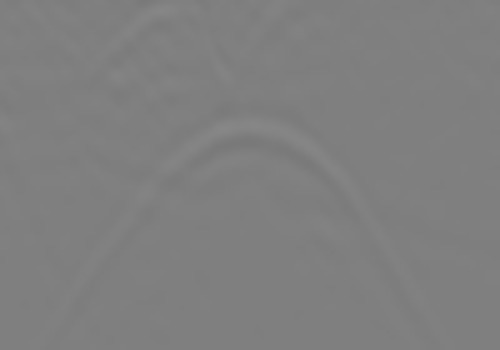hyperbola: (47, 115, 440, 324)
